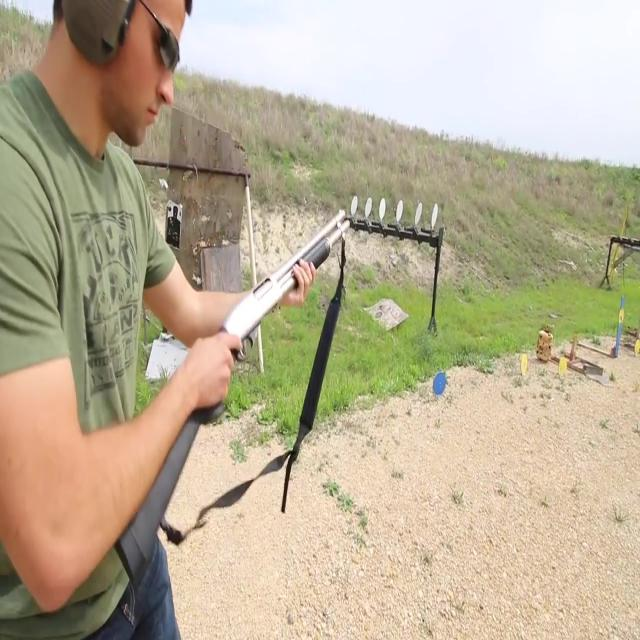Weapon: (110, 195, 373, 610)
